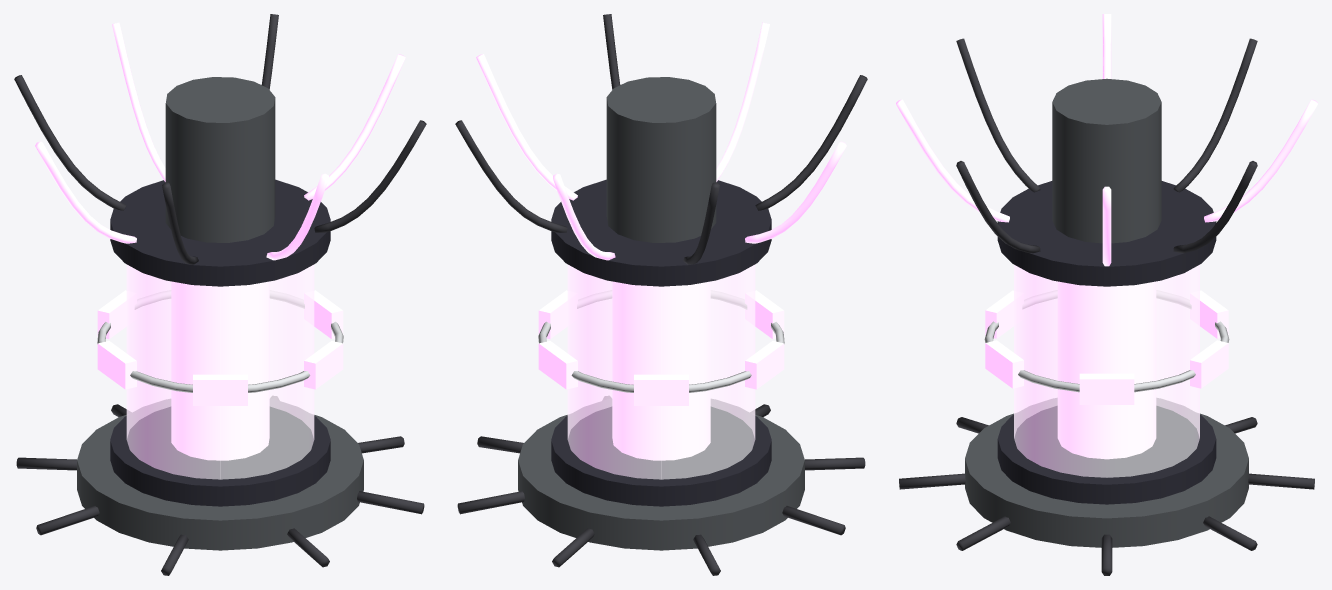
File: an_core.glb
3 views of the same model, side by side, from view 1: azimuth 30°, elevation 25°; view 2: azimuth 150°, elevation 25°; view 3: azimuth 270°, elevation 25° (orthographic).
Visible parts, largest first — view 1: an_core, ring; view 2: an_core, ring; view 3: an_core, ring.
Boxes of the visible parts, x1,y1,x2,y2 form: an_core: (14,14,426,575); ring: (97,290,343,405); an_core: (455,14,867,575); ring: (538,290,784,405); an_core: (896,14,1317,575); ring: (984,290,1229,404).
Size of the model in its own units: 3.86 by 3.92 by 3.86.
